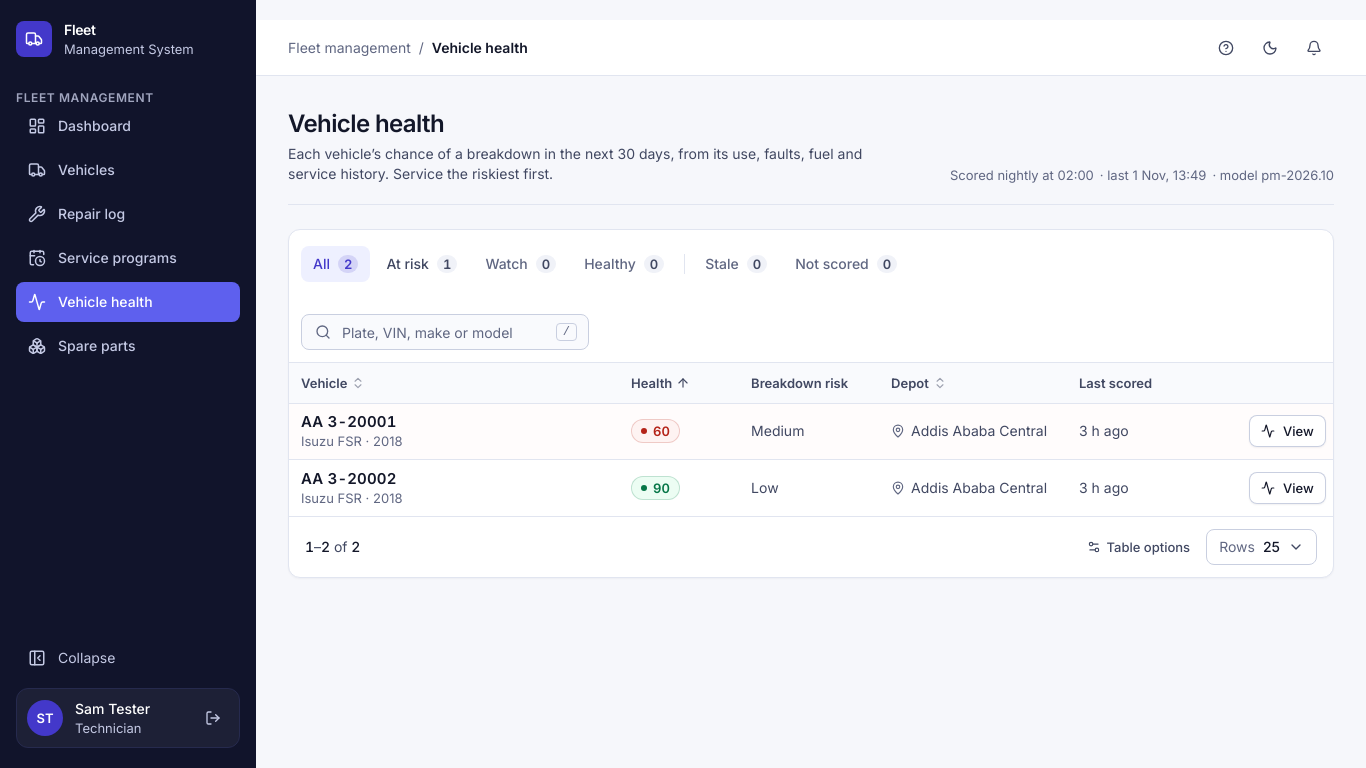
it: Vehicle health (S-19) › what the inspection found (FMS-128) › only a high-risk prediction is asked about
Click the text "AA 3-20001" at (349, 422), box x1=301 y1=412 x2=396 y2=431
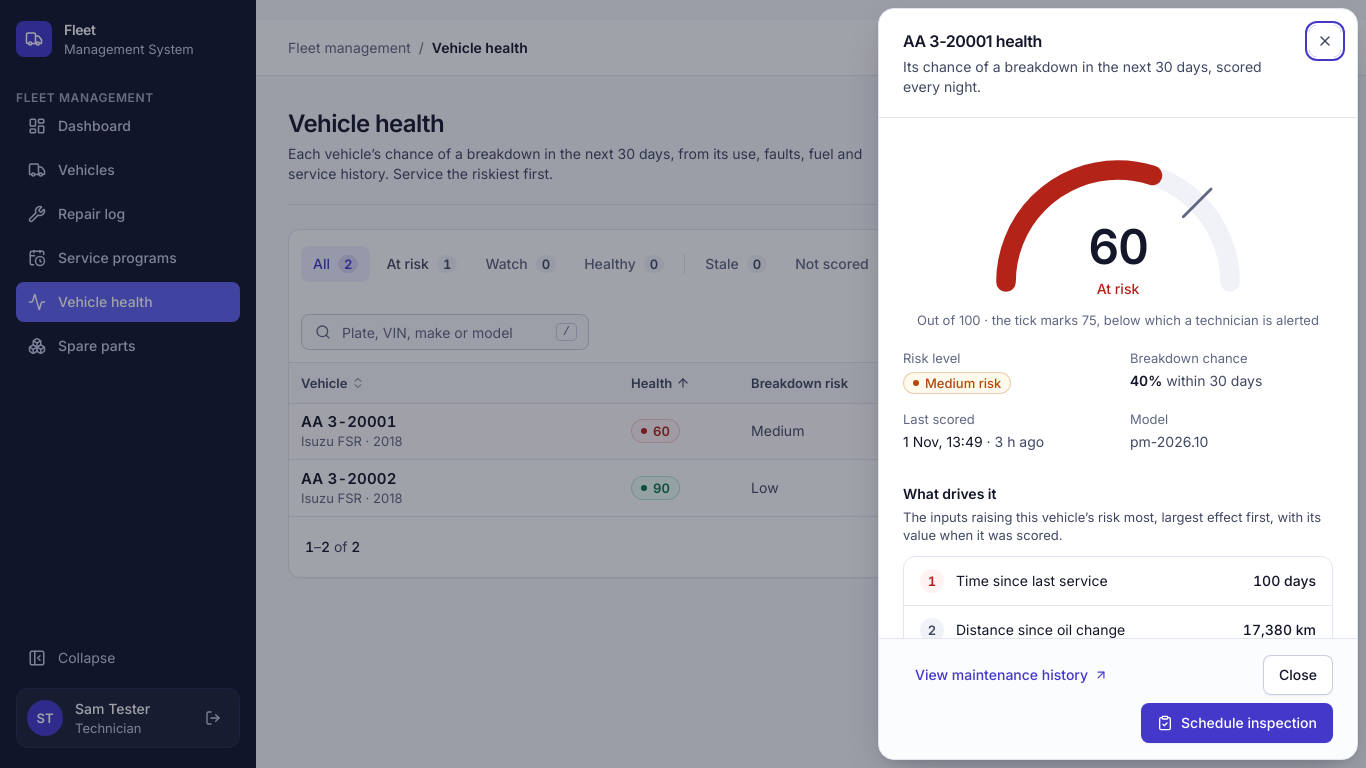
Expected: the text "Medium risk" is shown, x1=903 y1=372 x2=1011 y2=394
Press Escape
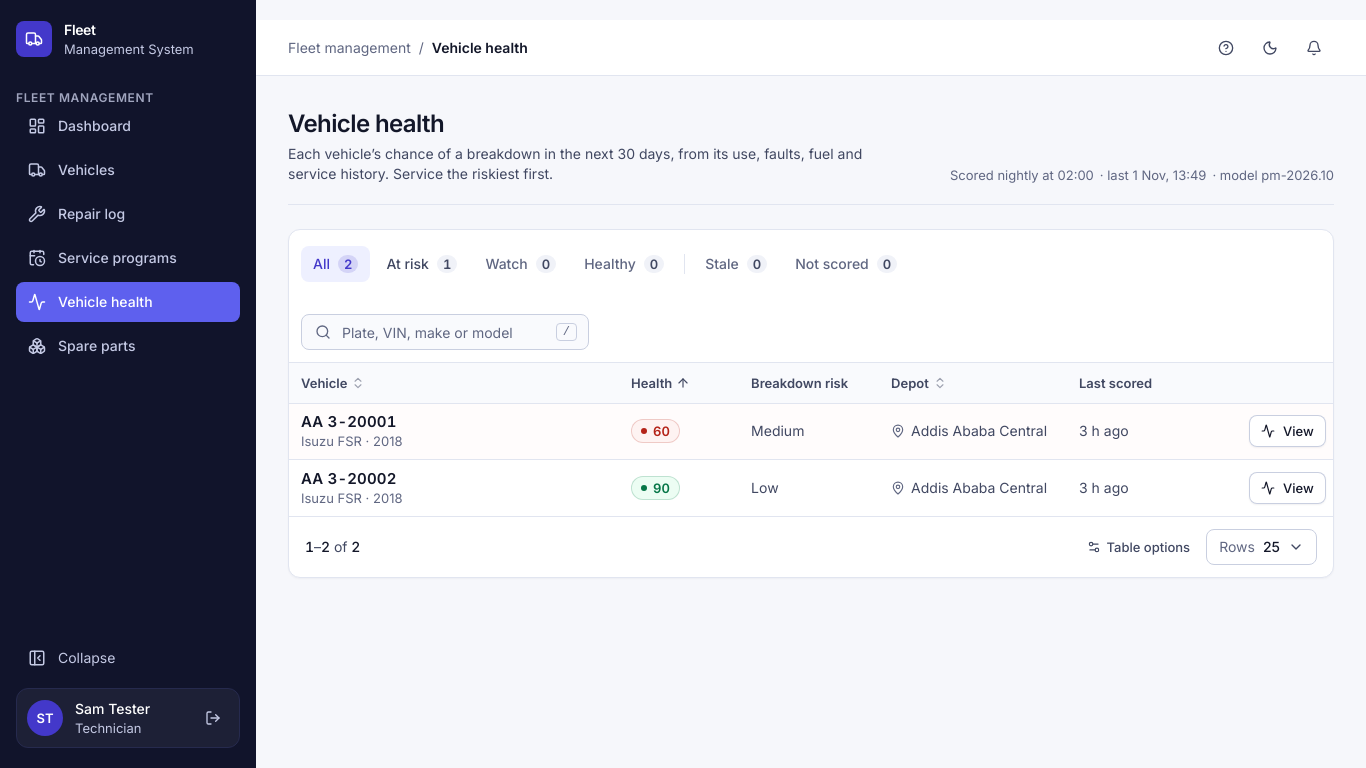
Click the text "AA 3-20002" at (349, 478), box x1=301 y1=469 x2=396 y2=488
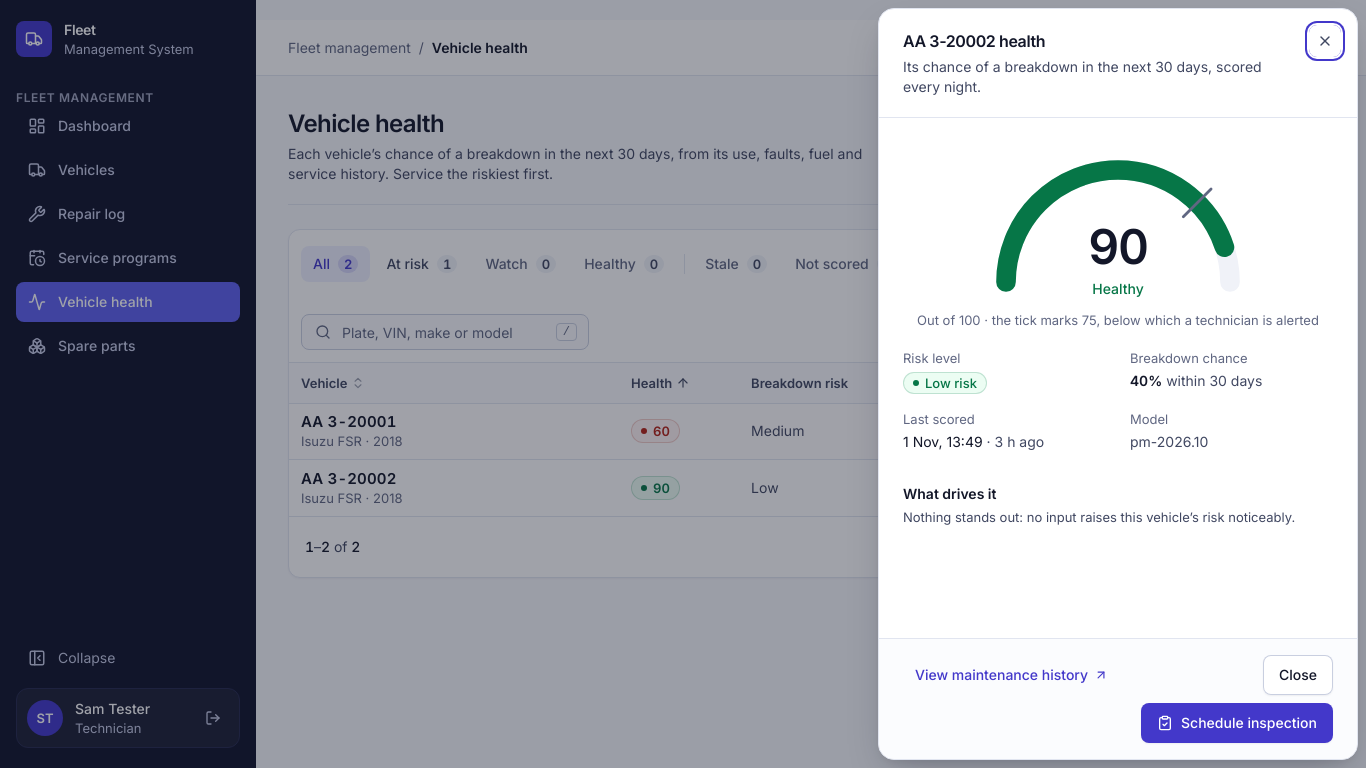
Expected: the text "Low risk" is shown, x1=903 y1=372 x2=987 y2=394
